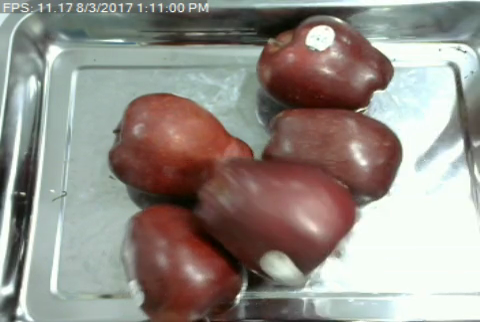Apple: (195, 152, 361, 280), (106, 89, 255, 198), (117, 201, 247, 322), (258, 102, 406, 204), (254, 11, 394, 112)
